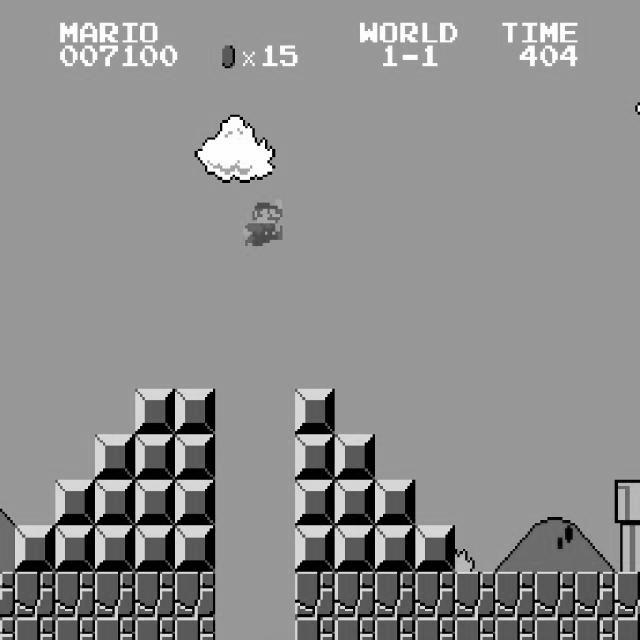11- little_mario: (240, 197, 282, 246)
14- pipe: (614, 525, 640, 571)
15- pipe_head: (614, 480, 640, 525)
17- undestructible_block: (54, 572, 96, 618), (94, 572, 136, 618), (134, 572, 176, 618), (174, 572, 216, 618), (294, 572, 336, 618), (334, 572, 376, 618), (374, 572, 416, 618), (414, 572, 456, 618), (454, 572, 496, 618), (494, 572, 536, 618), (534, 572, 576, 618), (574, 572, 616, 618), (15, 572, 56, 618), (614, 571, 640, 617), (54, 617, 96, 640), (94, 617, 136, 640), (134, 617, 176, 640), (174, 617, 216, 640), (294, 617, 336, 640), (334, 617, 376, 640), (374, 617, 416, 640), (414, 617, 456, 640), (454, 617, 496, 640), (494, 617, 536, 640), (534, 617, 576, 640), (574, 617, 616, 640), (15, 617, 56, 640), (0, 572, 15, 618), (614, 617, 640, 639), (0, 617, 15, 640)
9- hard_block: (54, 480, 96, 526), (54, 526, 96, 572), (94, 434, 136, 480), (94, 480, 136, 526), (94, 526, 136, 572), (134, 388, 176, 434), (134, 434, 176, 480), (134, 480, 176, 526), (134, 526, 176, 572), (174, 388, 216, 434), (174, 434, 216, 480), (174, 480, 216, 526), (174, 526, 216, 572), (294, 388, 336, 434), (294, 434, 336, 480), (294, 480, 336, 526), (294, 526, 336, 572), (334, 434, 376, 480), (334, 480, 376, 526), (334, 526, 376, 572), (374, 480, 416, 526), (374, 526, 416, 572), (414, 526, 456, 572), (15, 526, 56, 572)
